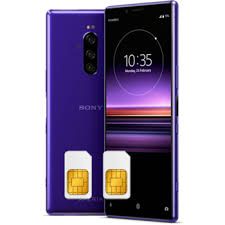sony: (100, 1, 180, 222), (42, 8, 101, 215)
